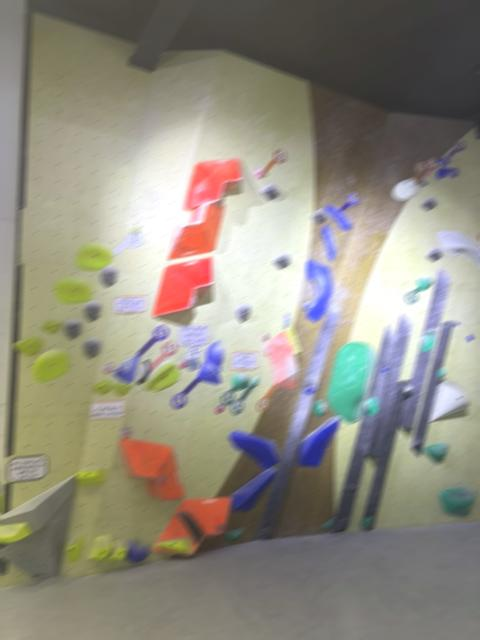crimp: (112, 354, 140, 382), (325, 205, 351, 228), (392, 178, 418, 199), (435, 167, 458, 178), (313, 399, 325, 416), (282, 312, 290, 328), (436, 157, 450, 166)
downhold: (83, 300, 102, 321), (82, 337, 101, 358), (99, 265, 117, 286), (63, 318, 81, 339), (260, 183, 278, 200), (310, 208, 328, 224), (272, 253, 290, 268), (235, 303, 250, 321), (420, 196, 436, 211), (425, 248, 442, 261)
jib: (120, 427, 132, 438), (213, 403, 225, 413), (175, 359, 187, 368), (304, 385, 315, 393), (260, 333, 268, 340), (466, 334, 473, 341)
jug: (143, 359, 180, 391), (32, 349, 68, 381), (75, 242, 113, 270), (53, 277, 92, 301), (124, 538, 150, 561), (13, 336, 43, 355), (205, 341, 224, 371), (196, 360, 220, 383), (423, 442, 448, 462), (92, 379, 112, 394), (41, 319, 61, 333), (112, 382, 132, 395), (416, 276, 433, 290), (253, 168, 264, 177)
ledge: (168, 202, 224, 258), (297, 417, 339, 466), (230, 467, 276, 510), (228, 430, 278, 468), (438, 486, 476, 515), (155, 537, 192, 554), (75, 467, 105, 484)
pinch: (88, 534, 112, 558), (105, 539, 127, 560)
sidepull: (255, 302, 340, 538), (360, 380, 407, 530), (365, 315, 411, 457), (410, 321, 453, 455), (332, 411, 377, 532), (326, 342, 375, 422), (183, 159, 240, 209), (399, 346, 432, 430), (366, 326, 397, 400), (420, 269, 450, 338), (302, 259, 332, 321), (267, 331, 297, 388), (320, 223, 337, 261)
sloper: (429, 382, 469, 421)
tape: (136, 324, 168, 356), (110, 226, 144, 255), (170, 378, 199, 408), (149, 340, 177, 369), (261, 148, 287, 174), (230, 386, 253, 414), (255, 384, 275, 411), (420, 157, 438, 181), (338, 192, 358, 211), (446, 139, 465, 158), (404, 286, 422, 303), (221, 385, 237, 404), (184, 344, 202, 360), (412, 161, 426, 181)
undercling: (118, 438, 184, 499), (152, 258, 213, 317), (438, 231, 480, 268)
volume: (0, 475, 77, 576), (152, 498, 230, 554)
